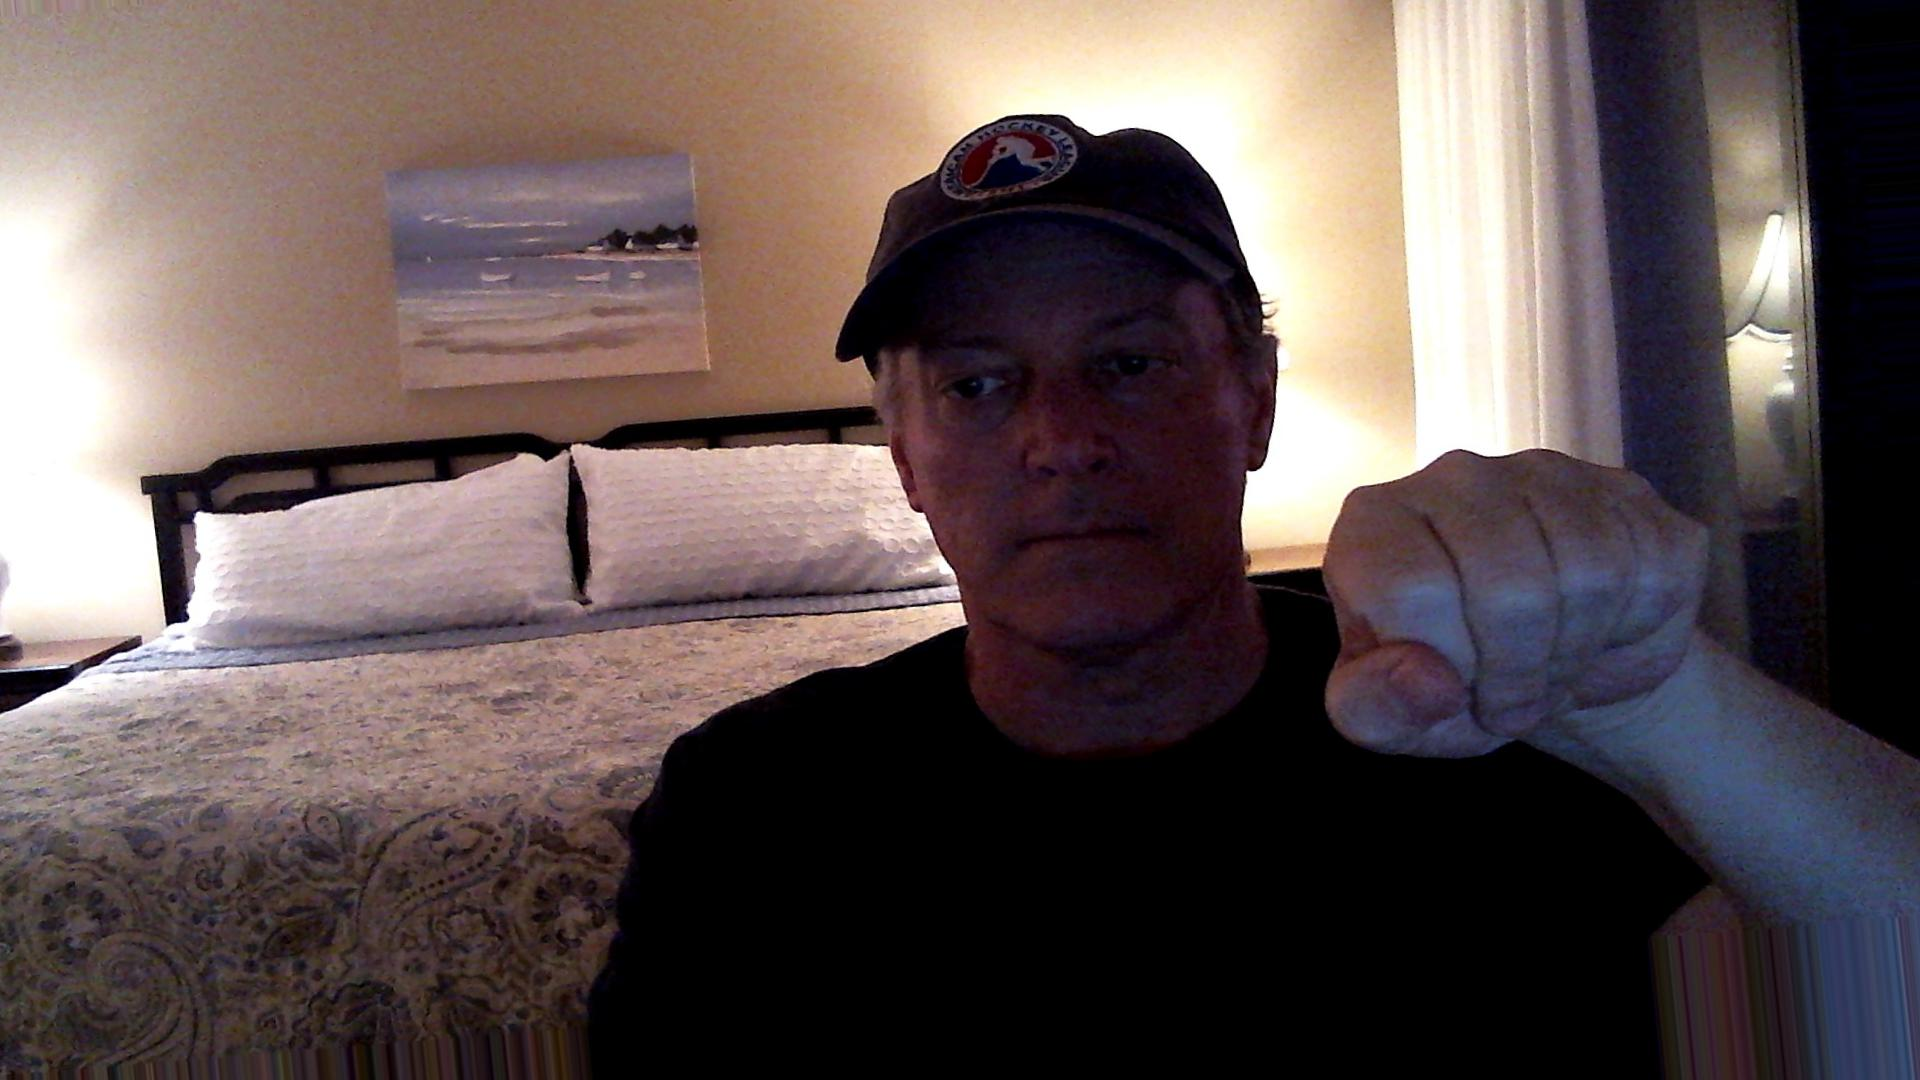Yes: (1295, 438, 1778, 774)
